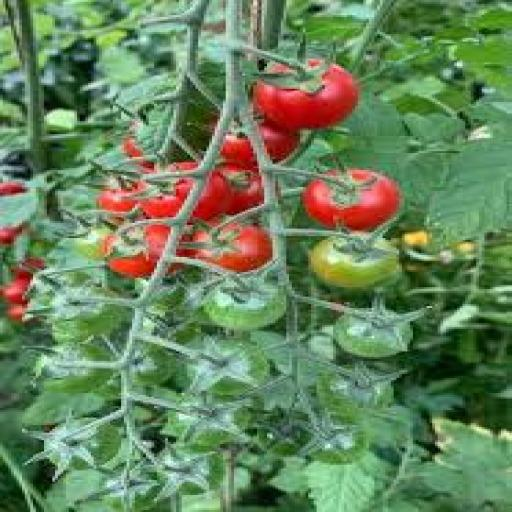tomato: (254, 65, 357, 130), (303, 169, 401, 230), (309, 237, 399, 289), (188, 337, 269, 394), (163, 399, 247, 451), (53, 288, 126, 343), (204, 282, 286, 330), (193, 223, 272, 272), (45, 418, 121, 468), (334, 312, 412, 358), (102, 225, 170, 277), (317, 375, 393, 421), (42, 344, 112, 392), (160, 444, 225, 494), (218, 165, 264, 215), (102, 235, 156, 277), (312, 424, 368, 464), (141, 178, 192, 217), (133, 346, 176, 385), (259, 123, 300, 162), (97, 184, 145, 215), (72, 227, 110, 260), (144, 225, 170, 260), (14, 257, 44, 281), (3, 280, 30, 304), (122, 135, 143, 158), (402, 231, 429, 247), (0, 227, 24, 245), (0, 182, 27, 196), (6, 305, 27, 323)
